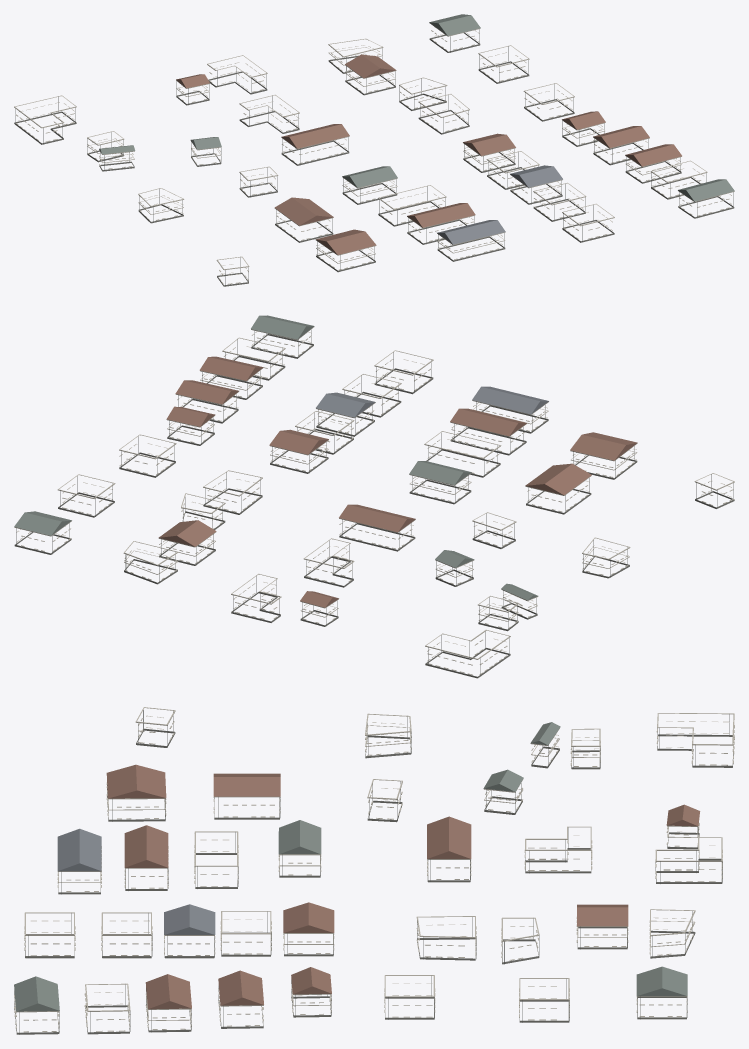
File: district_-2_1.glb
3 views of the same model, one above another, from view 1: azimuth 30°, elevation 25°; view 2: azimuth 150°, elevation 25°; view 3: azimuth 270°, elevation 25° (orthographic). The views are drawn at different scales.
Parts seen in each view (by area): view 1: MasonryTrim, RoofMetal, MetalDetails; view 2: MasonryTrim, RoofMetal, MetalDetails; view 3: RoofMetal, MasonryTrim, MetalDetails.
Part boxes in pixels (x1=…): MasonryTrim: x1=14, y1=23, x2=734, y2=286; RoofMetal: x1=99, y1=14, x2=734, y2=254; MetalDetails: x1=15, y1=29, x2=733, y2=286; MasonryTrim: x1=14, y1=327, x2=734, y2=678; RoofMetal: x1=14, y1=315, x2=637, y2=607; MetalDetails: x1=16, y1=330, x2=733, y2=676; RoofMetal: x1=14, y1=722, x2=700, y2=1011; MasonryTrim: x1=14, y1=707, x2=734, y2=1034; MetalDetails: x1=14, y1=710, x2=729, y2=1034.
Bounding box in the file's own units: 210 × 10.1 × 210.
